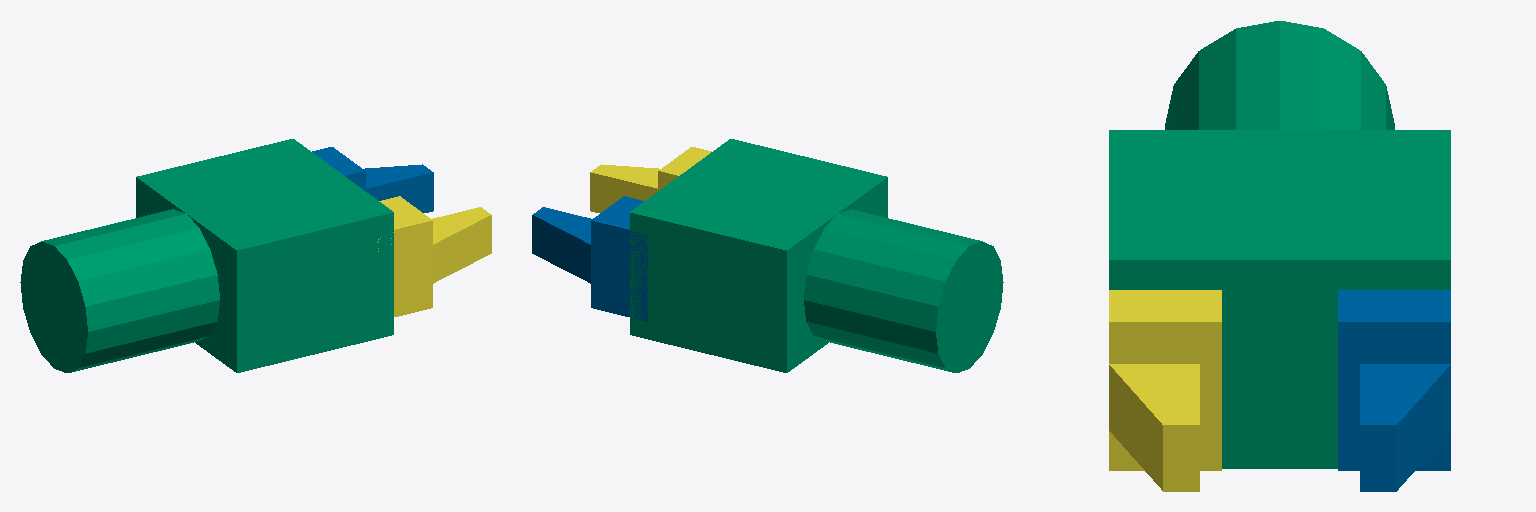
URDF robot description (ur3_robot):
<?xml version="1.0" ?>
<!-- =================================================================================== -->
<!-- |    This document was autogenerated by xacro from ur3.xacro                      | -->
<!-- |    EDITING THIS FILE BY HAND IS NOT RECOMMENDED                                 | -->
<!-- =================================================================================== -->
<robot name="ur3_robot" xmlns:xacro="http://www.ros.org/wiki/xacro">
  
  <transmission name="shoulder_pan_trans">
    <type>transmission_interface/SimpleTransmission</type>
    <joint name="shoulder_pan_joint">
      <hardwareInterface>hardware_interface/PositionJointInterface</hardwareInterface>
    </joint>
    <actuator name="shoulder_pan_motor">
      <mechanicalReduction>1</mechanicalReduction>
    </actuator>
  </transmission>
  <transmission name="shoulder_lift_trans">
    <type>transmission_interface/SimpleTransmission</type>
    <joint name="shoulder_lift_joint">
      <hardwareInterface>hardware_interface/PositionJointInterface</hardwareInterface>
    </joint>
    <actuator name="shoulder_lift_motor">
      <mechanicalReduction>1</mechanicalReduction>
    </actuator>
  </transmission>
  <transmission name="elbow_trans">
    <type>transmission_interface/SimpleTransmission</type>
    <joint name="elbow_joint">
      <hardwareInterface>hardware_interface/PositionJointInterface</hardwareInterface>
    </joint>
    <actuator name="elbow_motor">
      <mechanicalReduction>1</mechanicalReduction>
    </actuator>
  </transmission>
  <transmission name="wrist_1_trans">
    <type>transmission_interface/SimpleTransmission</type>
    <joint name="wrist_1_joint">
      <hardwareInterface>hardware_interface/PositionJointInterface</hardwareInterface>
    </joint>
    <actuator name="wrist_1_motor">
      <mechanicalReduction>1</mechanicalReduction>
    </actuator>
  </transmission>
  <transmission name="wrist_2_trans">
    <type>transmission_interface/SimpleTransmission</type>
    <joint name="wrist_2_joint">
      <hardwareInterface>hardware_interface/PositionJointInterface</hardwareInterface>
    </joint>
    <actuator name="wrist_2_motor">
      <mechanicalReduction>1</mechanicalReduction>
    </actuator>
  </transmission>
  <transmission name="wrist_3_trans">
    <type>transmission_interface/SimpleTransmission</type>
    <joint name="wrist_3_joint">
      <hardwareInterface>hardware_interface/PositionJointInterface</hardwareInterface>
    </joint>
    <actuator name="wrist_3_motor">
      <mechanicalReduction>1</mechanicalReduction>
    </actuator>
  </transmission>
  <!-- links: main serial chain -->
<!--/ur3/meshes -->
  <link name="base_link"/>
  <link name="base_link_inertia">
    <visual>
      <origin rpy="0 0 3.141592653589793" xyz="0 0 0"/>
      <geometry>
        <mesh filename="./meshes/ur3/visual/base.dae"/>
      </geometry>
      <material name="LightGrey">
        <color rgba="0.7 0.7 0.7 1.0"/>
      </material>
    </visual>
    <collision>
      <origin rpy="0 0 3.141592653589793" xyz="0 0 0"/>
      <geometry>
        <mesh filename="./meshes/ur3/collision/base.obj"/>
      </geometry>
    </collision>
    <inertial>
      <mass value="2.0"/>
      <origin rpy="0 0 0" xyz="0 0 0"/>
      <inertia ixx="0.0030531654454" ixy="0.0" ixz="0.0" iyy="0.0030531654454" iyz="0.0" izz="0.005625"/>
    </inertial>
  </link>
  <link name="shoulder_link">
    <visual>
      <origin rpy="0 0 3.141592653589793" xyz="0 0 0"/>
      <geometry>
        <mesh filename="./meshes/ur3/visual/shoulder.dae"/>
      </geometry>
      <material name="LightGrey">
        <color rgba="0.7 0.7 0.7 1.0"/>
      </material>
    </visual>
    <collision>
      <origin rpy="0 0 3.141592653589793" xyz="0 0 0"/>
      <geometry>
        <mesh filename="./meshes/ur3/collision/shoulder.obj"/>
      </geometry>
    </collision>
    <inertial>
      <mass value="2.0"/>
      <origin rpy="0 0 0" xyz="0 0 0"/>
      <inertia ixx="0.008093163429399999" ixy="0.0" ixz="0.0" iyy="0.008093163429399999" iyz="0.0" izz="0.005625"/>
    </inertial>
  </link>
  <link name="upper_arm_link">
    <visual>
      <origin rpy="1.5707963267948966 0 -1.5707963267948966" xyz="0 0 0.1198"/>
      <geometry>
        <mesh filename="./meshes/ur3/visual/upperarm.dae"/>
      </geometry>
      <material name="LightGrey">
        <color rgba="0.7 0.7 0.7 1.0"/>
      </material>
    </visual>
    <collision>
      <origin rpy="1.5707963267948966 0 -1.5707963267948966" xyz="0 0 0.1198"/>
      <geometry>
        <mesh filename="./meshes/ur3/collision/upperarm.obj"/>
      </geometry>
    </collision>
    <inertial>
      <mass value="3.42"/>
      <origin rpy="0 1.5707963267948966 0" xyz="-0.121825 0.0 0.12"/>
      <inertia ixx="0.021728483221103233" ixy="0.0" ixz="0.0" iyy="0.021728483221103233" iyz="0.0" izz="0.00961875"/>
    </inertial>
  </link>
  <link name="forearm_link">
    <visual>
      <origin rpy="1.5707963267948966 0 -1.5707963267948966" xyz="0 0 0.0275"/>
      <geometry>
        <mesh filename="./meshes/ur3/visual/forearm.dae"/>
      </geometry>
      <material name="LightGrey">
        <color rgba="0.7 0.7 0.7 1.0"/>
      </material>
    </visual>
    <collision>
      <origin rpy="1.5707963267948966 0 -1.5707963267948966" xyz="0 0 0.0275"/>
      <geometry>
        <mesh filename="./meshes/ur3/collision/forearm.obj"/>
      </geometry>
    </collision>
    <inertial>
      <mass value="1.26"/>
      <origin rpy="0 1.5707963267948966 0" xyz="-0.106625 0.0 0.0275"/>
      <inertia ixx="0.006546806443776375" ixy="0.0" ixz="0.0" iyy="0.006546806443776375" iyz="0.0" izz="0.00354375"/>
    </inertial>
  </link>
  <link name="wrist_1_link">
    <visual>
      <!-- TODO: Move this to a parameter -->
      <origin rpy="1.5707963267948966 0 0" xyz="0 0 -0.085"/>
      <geometry>
        <mesh filename="./meshes/ur3/visual/wrist1.dae"/>
      </geometry>
      <material name="LightGrey">
        <color rgba="0.7 0.7 0.7 1.0"/>
      </material>
    </visual>
    <collision>
      <origin rpy="1.5707963267948966 0 0" xyz="0 0 -0.085"/>
      <geometry>
        <mesh filename="./meshes/ur3/collision/wrist1.obj"/>
      </geometry>
    </collision>
    <inertial>
      <mass value="0.8"/>
      <origin rpy="0 0 0" xyz="0 0 0"/>
      <inertia ixx="0.0016106408557434" ixy="0.0" ixz="0.0" iyy="0.0016106408557434" iyz="0.0" izz="0.00225"/>
    </inertial>
  </link>
  <link name="wrist_2_link">
    <visual>
      <origin rpy="0 0 0" xyz="0 0 -0.085"/>
      <geometry>
        <mesh filename="./meshes/ur3/visual/wrist2.dae"/>
      </geometry>
      <material name="LightGrey">
        <color rgba="0.7 0.7 0.7 1.0"/>
      </material>
    </visual>
    <collision>
      <origin rpy="0 0 0" xyz="0 0 -0.085"/>
      <geometry>
        <mesh filename="./meshes/ur3/collision/wrist2.obj"/>
      </geometry>
    </collision>
    <inertial>
      <mass value="0.8"/>
      <origin rpy="0 0 0" xyz="0 0 0"/>
      <inertia ixx="0.0015721733711303997" ixy="0.0" ixz="0.0" iyy="0.0015721733711303997" iyz="0.0" izz="0.00225"/>
    </inertial>
  </link>
  <link name="wrist_3_link">
    <visual>
      <origin rpy="1.5707963267948966 0 0" xyz="0 0 -0.082"/>
      <geometry>
        <mesh filename="./meshes/ur3/visual/wrist3.dae"/>
      </geometry>
      <material name="LightGrey">
        <color rgba="0.7 0.7 0.7 1.0"/>
      </material>
    </visual>
    <collision>
      <origin rpy="1.5707963267948966 0 0" xyz="0 0 -0.082"/>
      <geometry>
        <mesh filename="./meshes/ur3/collision/wrist3.obj"/>
      </geometry>
    </collision>
    <inertial>
      <mass value="0.35"/>
      <origin rpy="0 0 0" xyz="0.0 0.0 -0.02"/>
      <inertia ixx="0.00013626661215999998" ixy="0.0" ixz="0.0" iyy="0.00013626661215999998" iyz="0.0" izz="0.0001792"/>
    </inertial>
  </link>
  <!-- joints: main serial chain -->
  <joint name="base_link-base_link_inertia" type="fixed">
    <parent link="base_link"/>
    <child link="base_link_inertia"/>
    <!-- 'base_link' is REP-103 aligned (so X+ forward), while the internal
           frames of the robot/controller have X+ pointing backwards.
           Use the joint between 'base_link' and 'base_link_inertia' (a dummy
           link/frame) to introduce the necessary rotation over Z (of pi rad).
      -->
    <origin rpy="0 0 -4.712389" xyz="1.0 0 0.8"/>
  </joint>
  <joint name="shoulder_pan_joint" type="revolute">
    <parent link="base_link_inertia"/>
    <child link="shoulder_link"/>
    <origin rpy="0 0 0" xyz="0 0 0.1519"/>
    <axis xyz="0 0 1"/>
    <limit effort="56.0" lower="-6.283185307179586" upper="6.283185307179586" velocity="3.141592653589793"/>
    <dynamics damping="0" friction="0"/>
  </joint>
  <joint name="shoulder_lift_joint" type="revolute">
    <parent link="shoulder_link"/>
    <child link="upper_arm_link"/>
    <origin rpy="1.570796327 1.570796327 0" xyz="0 0 0"/>
    <axis xyz="0 0 1"/>
    <limit effort="56.0" lower="-6.283185307179586" upper="6.283185307179586" velocity="3.141592653589793"/>
    <dynamics damping="0" friction="0"/>
  </joint>
  <joint name="elbow_joint" type="revolute">
    <parent link="upper_arm_link"/>
    <child link="forearm_link"/>
    <origin rpy="0 0 0" xyz="-0.24365 0 0"/>
    <axis xyz="0 0 1"/>
    <limit effort="28.0" lower="-3.141592653589793" upper="3.141592653589793" velocity="3.141592653589793"/>
    <dynamics damping="0" friction="0"/>
  </joint>
  <joint name="wrist_1_joint" type="revolute">
    <parent link="forearm_link"/>
    <child link="wrist_1_link"/>
    <origin rpy="0 0 -1.570796327" xyz="-0.21325 0 0.11235"/>
    <axis xyz="0 0 1"/>
    <limit effort="12.0" lower="-6.283185307179586" upper="6.283185307179586" velocity="6.283185307179586"/>
    <dynamics damping="0" friction="0"/>
  </joint>
  <joint name="wrist_2_joint" type="revolute">
    <parent link="wrist_1_link"/>
    <child link="wrist_2_link"/>
    <origin rpy="1.570796327 0 0" xyz="0 -0.08535 -1.750557762378351e-11"/>
    <axis xyz="0 0 1"/>
    <limit effort="12.0" lower="-6.283185307179586" upper="6.283185307179586" velocity="6.283185307179586"/>
    <dynamics damping="0" friction="0"/>
  </joint>
  <joint name="wrist_3_joint" type="revolute">
    <parent link="wrist_2_link"/>
    <child link="wrist_3_link"/>
    <origin rpy="1.570796326589793 3.141592653589793 3.141592653589793" xyz="0 0.0819 -1.679797079540562e-11"/>
    <axis xyz="0 0 1"/>
    <limit effort="12.0" lower="-6.283185307179586" upper="6.283185307179586" velocity="6.283185307179586"/>
    <dynamics damping="0" friction="0"/>
  </joint>
  <!-- ROS-Industrial 'base' frame: base_link to UR 'Base' Coordinates transform -->
  <link name="base"/>
  <joint name="base_link-base_fixed_joint" type="fixed">
    <!-- Note the rotation over Z of pi radians: as base_link is REP-103
           aligned (ie: has X+ forward, Y+ left and Z+ up), this is needed
           to correctly align 'base' with the 'Base' coordinate system of
           the UR controller.
      -->
    <origin rpy="0 0 3.141592653589793" xyz="0 0 0"/>
    <parent link="base_link"/>
    <child link="base"/>
  </joint>
  <!-- ROS-Industrial 'flange' frame: attachment point for EEF models -->
  <link name="flange"/>
  <joint name="wrist_3-flange" type="fixed">
    <parent link="wrist_3_link"/>
    <child link="flange"/>
    <origin rpy="0 -1.5707963267948966 -1.5707963267948966" xyz="0 0 0"/>
  </joint>
  <!-- ROS-Industrial 'tool0' frame: all-zeros tool frame -->
  <link name="hand_base">
    <visual>
      <geometry>
        <mesh filename="./meshes/ur3/visual/hand_base.dae"/>
      </geometry>
    </visual>
    <collision>
      <geometry>
        <mesh filename="./meshes/ur3/collision/hand_base.obj"/>
      </geometry>
    </collision>
  </link>
  <!-- <joint name="ur3_handjoint" type="revolute">
    <origin rpy="1.5707963267948966 0 1.5707963267948966" xyz="0 0 0"/>
    <parent link="flange"/>
    <child link="hand_base"/>
    <axis xyz="0 0 1"/>
    <limit effort="12.0" lower="-3.141592653589" upper="3.141592653589" velocity="6.283185307179586"/>
    <dynamics damping="0" friction="0"/>
  </joint> -->
  
  <joint name="ur3_handjoint" type="fixed">
    <origin rpy="1.5707963267948966 0 1.5707963267948966" xyz="0.05 0 0"/>
    <parent link="flange"/>
    <child link="hand_base"/>
  </joint>

  <link name="hand_right">
    <visual>
      <geometry>
        <mesh filename="./meshes/ur3/visual/finger.dae"/>
      </geometry>
    </visual>
    <collision>
      <geometry>
        <mesh filename="./meshes/ur3/collision/finger.obj"/>
      </geometry>
    </collision>
  </link>
  <joint name="ur3_righthandjoint" type="prismatic">
    <!-- default toolframe: X+ left, Y+ up, Z+ front -->
    <!-- <origin rpy="0 0 1.5707963267948966" xyz="0.016 0 0.1556"/> -->
    <origin rpy="0 0 1.5707963267948966" xyz="0.016 0 0.075"/>
    <parent link="hand_base"/>
    <child link="hand_right"/>
    <axis xyz="0 1 0"/>
    <limit effort="1000.0" lower="0" upper="0.016" velocity="0.1"/>
  </joint>
  <link name="hand_left">
    <visual>
      <geometry>
        <mesh filename="./meshes/ur3/visual/finger.dae"/>
      </geometry>
    </visual>
    <collision>
      <geometry>
        <mesh filename="./meshes/ur3/collision/finger.obj"/>
      </geometry>
    </collision>
  </link>
  <joint name="ur3_lefthandjoint" type="prismatic">
    <!-- default toolframe: X+ left, Y+ up, Z+ front -->
    <origin rpy="0 0 -1.5707963267948966" xyz="-0.016 0 0.075"/>
    <parent link="hand_base"/>
    <child link="hand_left"/>
    <axis xyz="0 1 0"/>
    <limit effort="1000" lower="0" upper="0.016" velocity="0.1"/>
  </joint>
  <!-- <link name="hand_base">
    <visual>
      <geometry>
        <mesh filename="./meshes/ur3/visual/handbase.obj"/>
      </geometry>
    </visual>
    <collision>
      <geometry>
        <mesh filename="./meshes/ur3/collision/hand_base.obj"/>
      </geometry>
    </collision>
  </link>
  <joint name="ur3_handjoint" type="revolute">
    <safety_controller k_position="100.0" k_velocity="40.0" soft_lower_limit="-2.8973" soft_upper_limit="2.8973"/>
    <origin rpy="0 0 0" xyz="0 0 0.333"/>
    <parent link="wrist_3_link"/>
    <child link="hand_base"/>
    <axis xyz="0 0 0.071"/>
    <dynamics damping="10.0"/>
    <limit effort="87" lower="-2.8973" upper="2.8973" velocity="2.1750"/>
  </joint> -->

  <transmission name="hand_right_trans">
    <type>transmission_interface/SimpleTransmission</type>
    <joint name="ur3_righthandjoint">
      <hardwareInterface>hardware_interface/PositionJointInterface</hardwareInterface>
    </joint>
    <actuator name="ur3_righthand_motor">
      <mechanicalReduction>1</mechanicalReduction>
    </actuator>
  </transmission>

  <transmission name="hand_left_trans">
    <type>transmission_interface/SimpleTransmission</type>
    <joint name="ur3_lefthandjoint">
      <hardwareInterface>hardware_interface/PositionJointInterface</hardwareInterface>
    </joint>
    <actuator name="ur3_lefthand_motor">
      <mechanicalReduction>1</mechanicalReduction>
    </actuator>
  </transmission>


</robot>

--- What the picture shows (computed from the rendered views, not written in the file) ---
The picture shows the robot from 3 angles, left to right: view 1: azimuth 30°, elevation 25°; view 2: azimuth 150°, elevation 25°; view 3: azimuth 270°, elevation 25°; orthographic projection.
Model ur3_robot with 13 links and 12 joints (6 revolute, 2 prismatic, 4 fixed), rooted at base_link, posed all joints at 0.
Links seen in each view (by area): view 1: hand_base, hand_right, hand_left; view 2: hand_base, hand_left, hand_right; view 3: hand_base, hand_right, hand_left.
Link boxes in pixels (<box>): hand_base: <box>20,139,393,372</box>; hand_right: <box>377,196,491,316</box>; hand_left: <box>312,147,433,212</box>; hand_base: <box>630,139,1003,372</box>; hand_left: <box>532,196,647,321</box>; hand_right: <box>590,147,711,212</box>; hand_base: <box>1109,21,1450,468</box>; hand_right: <box>1109,290,1221,491</box>; hand_left: <box>1338,290,1450,491</box>.
Bounding box of the posed robot: 0.2165 × 0.094 × 0.063 m (x, y, z).
3 mesh visuals loaded from 9 distinct referenced files (2 Collada DAE); not drawn: 7 (reference not matched to a file when rendering).